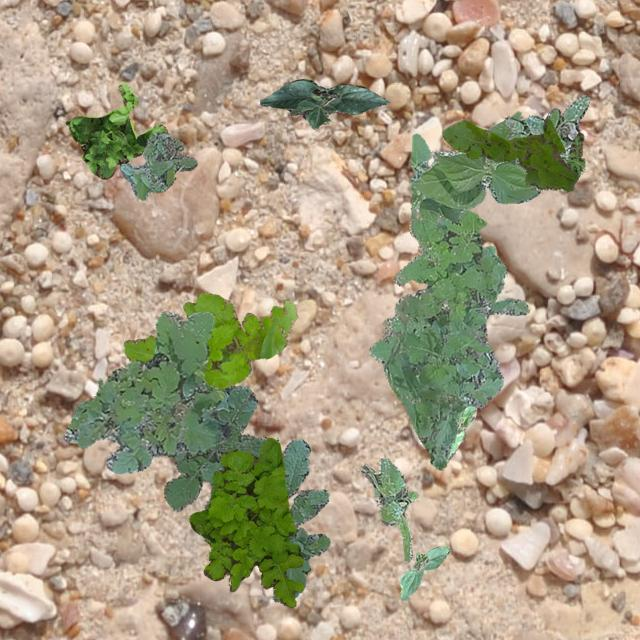crop: (410, 110, 540, 222), (258, 78, 388, 128), (398, 546, 448, 598), (446, 404, 476, 460)
weed: (368, 206, 528, 468), (162, 382, 330, 600), (64, 312, 230, 472), (188, 436, 302, 606), (122, 292, 296, 388), (65, 81, 166, 178), (441, 118, 576, 190), (504, 94, 588, 188), (358, 456, 416, 560), (118, 130, 196, 198), (566, 132, 584, 176)
